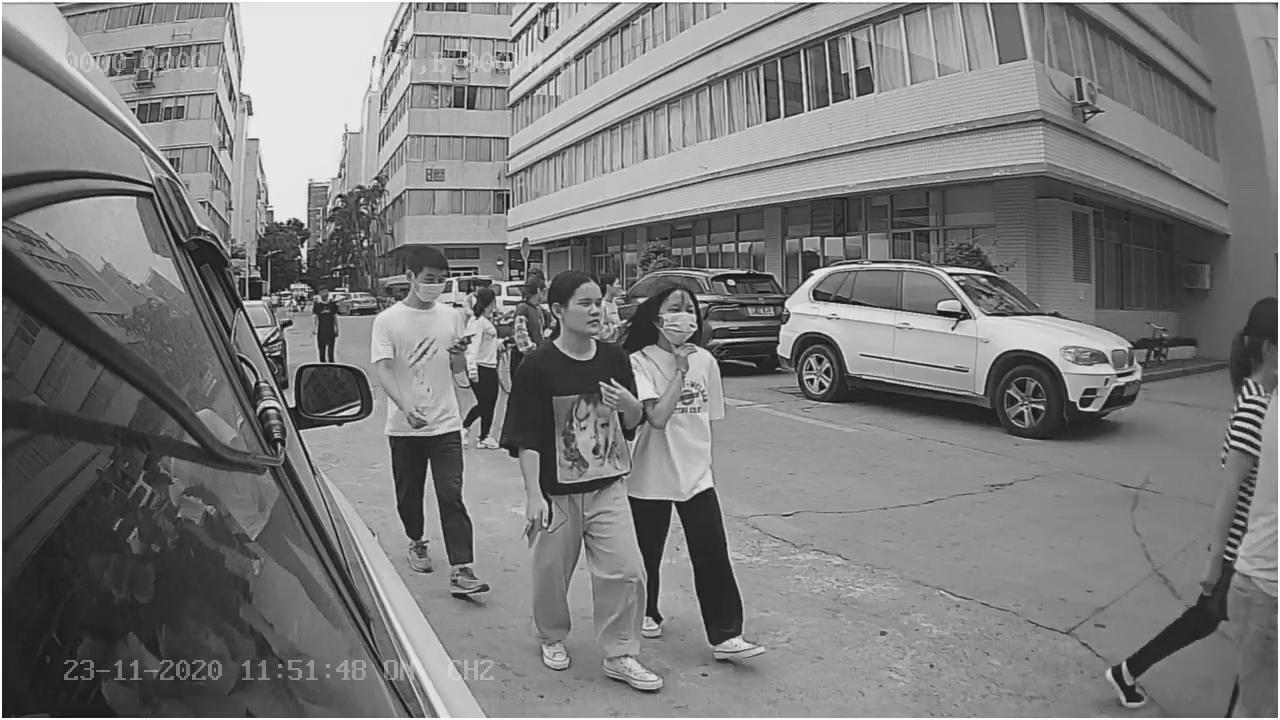person: (505, 250, 668, 697)
